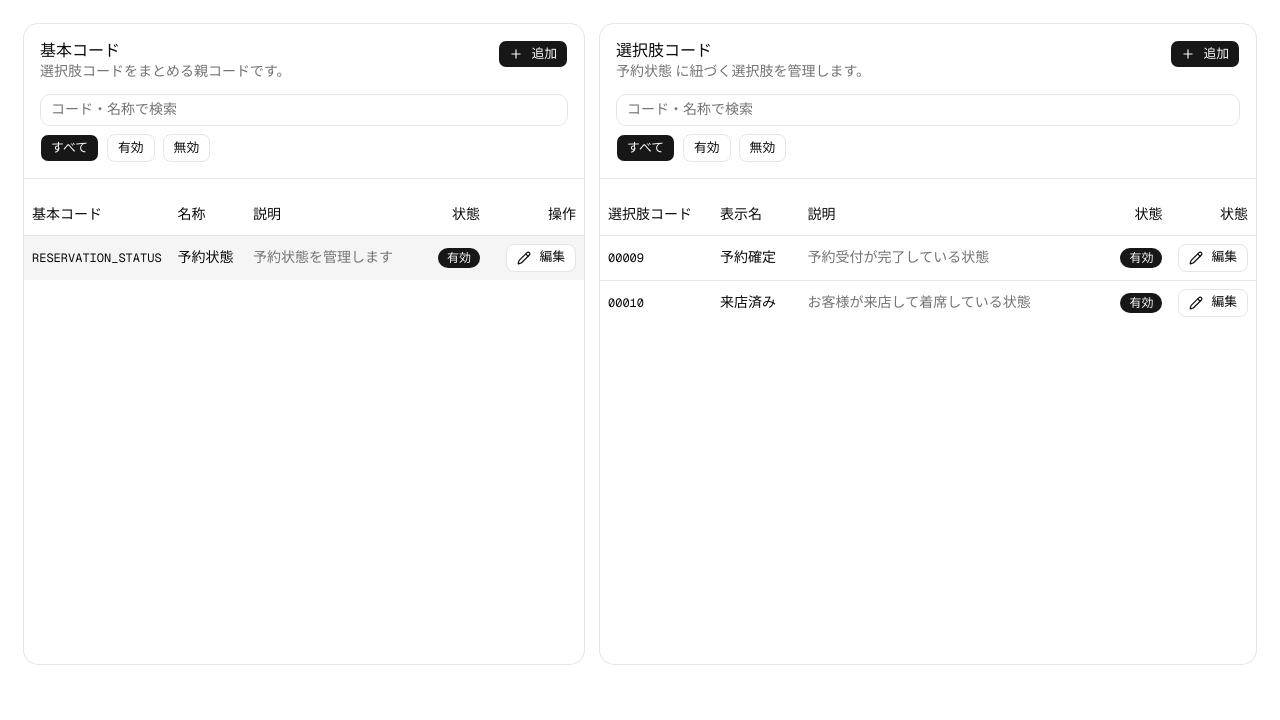
StandardCodeMasterPage › 選択肢コードをコードまたは名称で検索できる
Expected: the text "予約確定" is shown, [720,250,776,264]
Expected: the text "来店済み" is shown, [720,294,776,310]
# [0] は基本コード、[1] は選択肢コード側の検索欄
Type "確定" into the field with placeholder "コード・名称で検索" below "予約状態 に紐づく選択肢を管理します。" at x=928, y=110, box [616,94,1240,126]
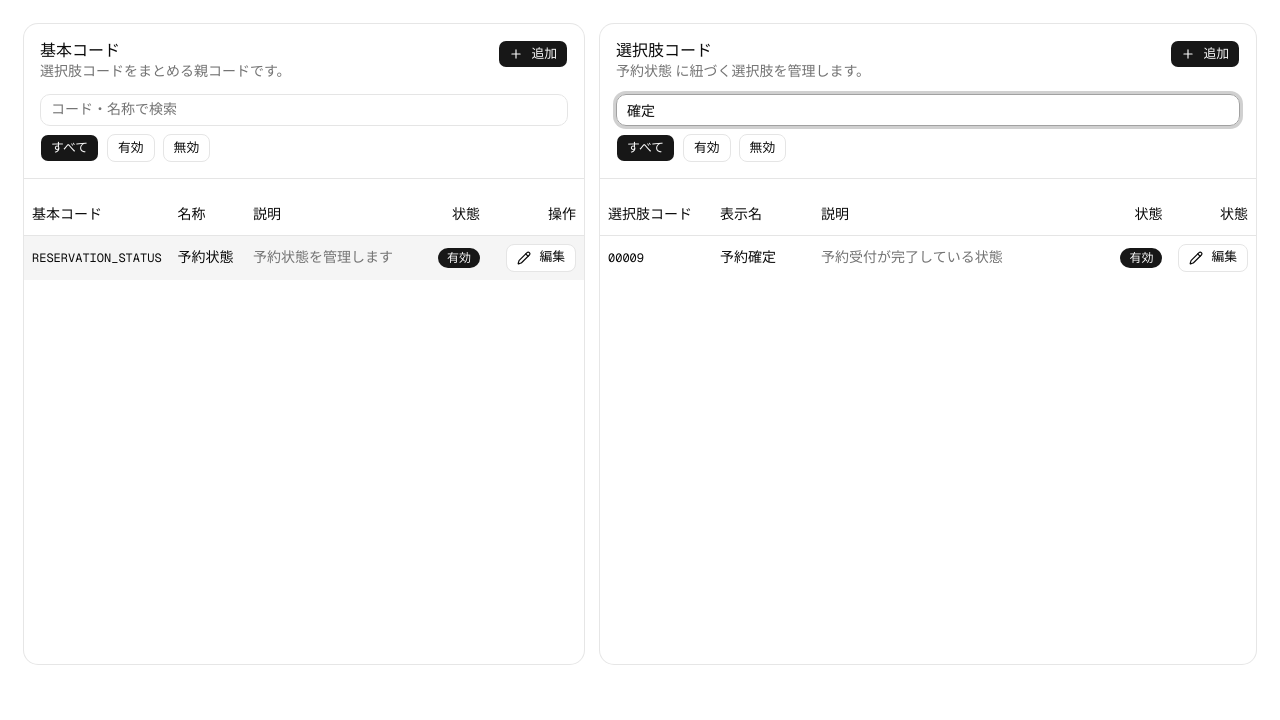
Expected: the text "予約確定" is shown, [720,250,776,264]
Now the text "来店済み" is gone
